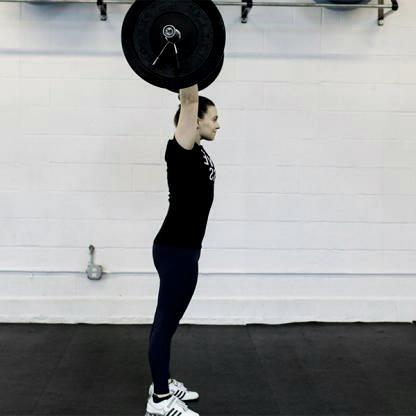Barbell: (160, 24, 174, 39)
